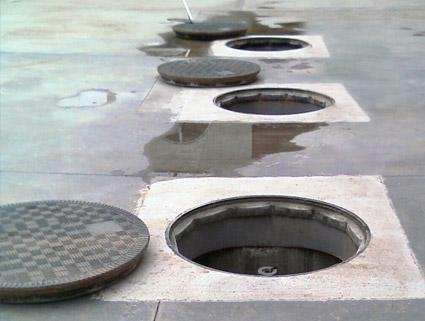open manhole-not overflowing-: (0, 179, 381, 293), (130, 56, 363, 119), (162, 16, 334, 53)
